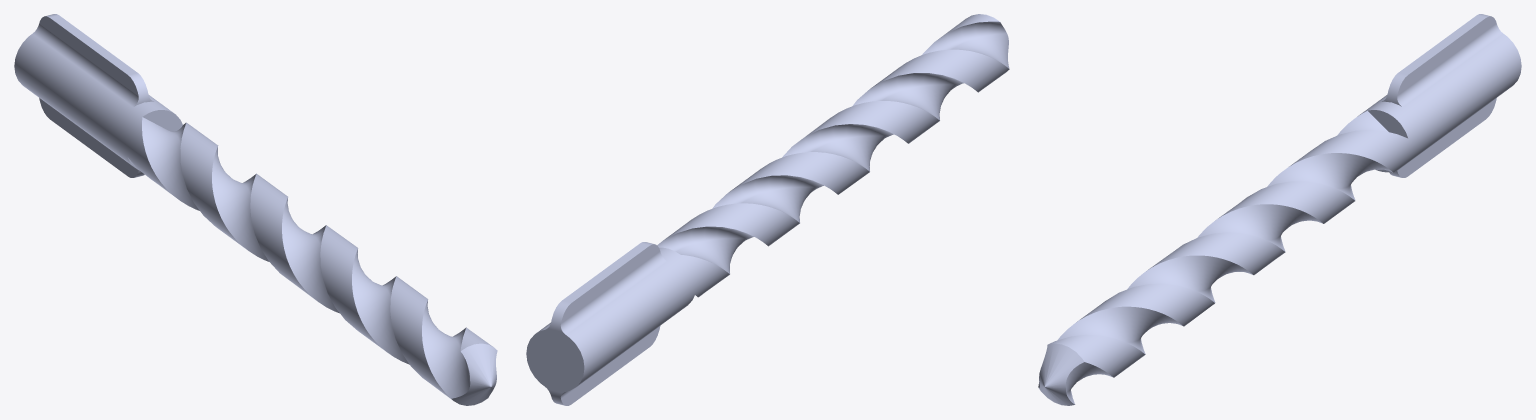
The model's file is Drill Bit.fbx.
3 views of the same model, side by side, from view 1: azimuth 30°, elevation 25°; view 2: azimuth 150°, elevation 25°; view 3: azimuth 330°, elevation 25° (orthographic).
Parts seen in each view (by area): view 1: Body_1; view 2: Body_1; view 3: Body_1.
Boxes of the visible parts, bbox=[...] form: Body_1: bbox=[14, 14, 497, 405]; Body_1: bbox=[526, 14, 1009, 405]; Body_1: bbox=[1038, 14, 1521, 405].
Bounding box in the file's own units: 0.006 × 0.08 × 0.01.
